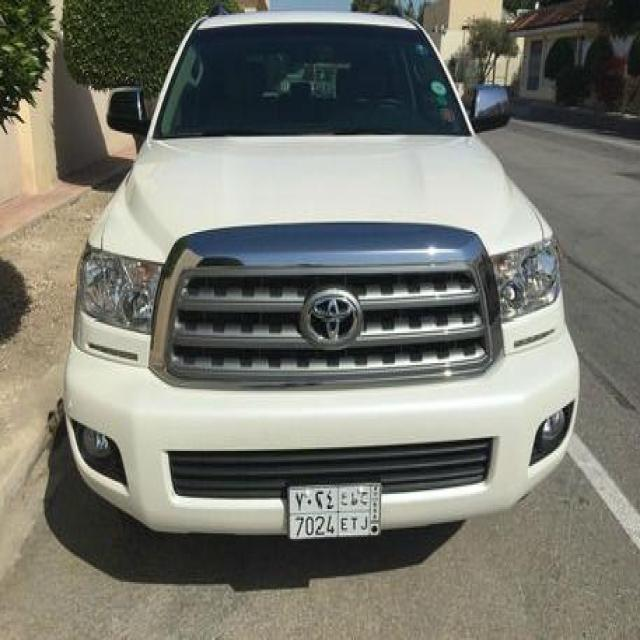license_plate: (284, 481, 384, 541)
